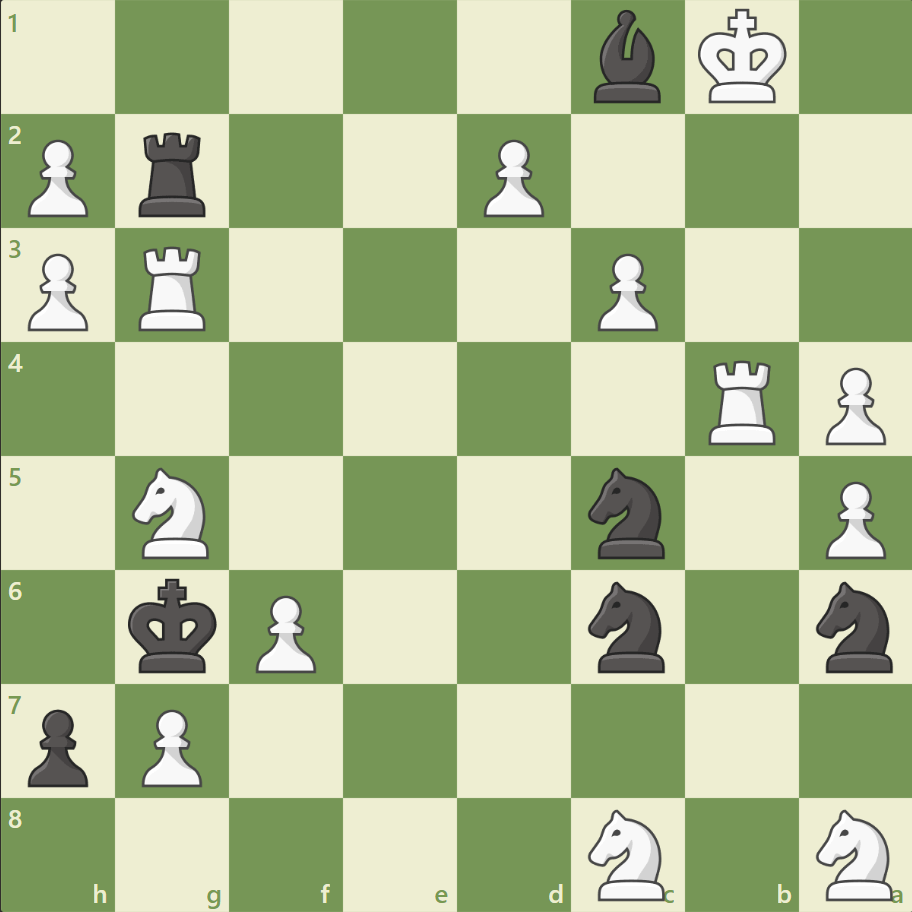K: (692, 4, 792, 112)
N: (124, 461, 222, 564), (806, 802, 903, 904), (579, 802, 676, 904)
P: (133, 700, 208, 791), (247, 586, 322, 677), (20, 246, 95, 337), (474, 132, 549, 223), (20, 132, 95, 223), (815, 473, 889, 564), (815, 359, 889, 450), (588, 246, 662, 337)
R: (700, 352, 783, 449), (133, 239, 215, 336)
b: (585, 6, 669, 109)
k: (124, 571, 224, 679)
n: (579, 461, 676, 564), (806, 575, 903, 677), (579, 575, 676, 677)
p: (20, 700, 95, 791)
r: (133, 125, 215, 222)
